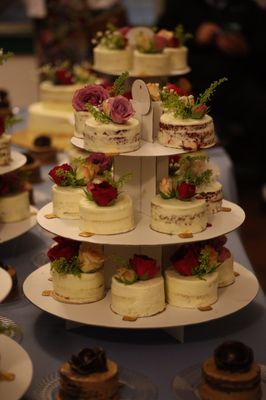sushi: (91, 23, 193, 78), (164, 239, 234, 310), (73, 89, 142, 153), (197, 340, 262, 400), (109, 254, 167, 320), (48, 241, 107, 303), (78, 171, 135, 235), (56, 347, 120, 400), (149, 184, 210, 236), (157, 105, 217, 151), (92, 32, 133, 76), (131, 79, 153, 142), (129, 253, 161, 280)
